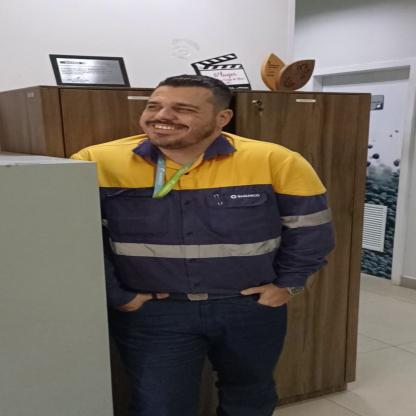Operacional: (63, 135, 343, 306)
